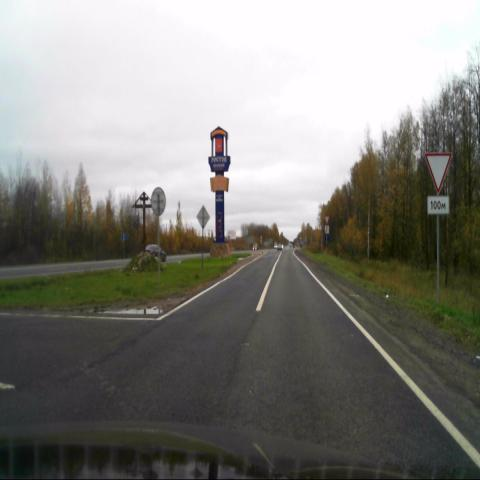2_4: (426, 152, 452, 192)
8_1_1: (428, 196, 449, 214)
